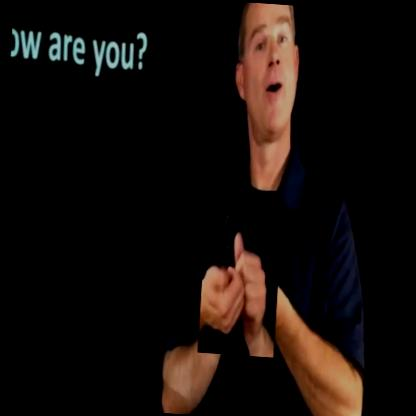HowAreYou: (196, 198, 284, 358)
